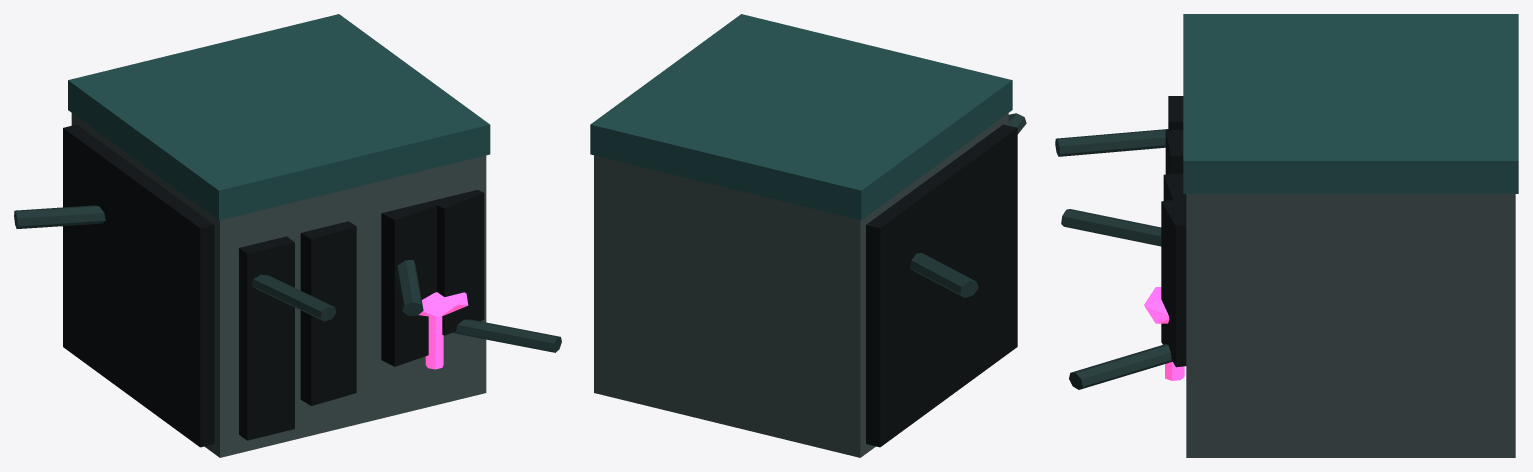
Rendered from df_v2_cliff_corner_a.glb.
The picture shows the model from 3 angles, left to right: view 1: azimuth 30°, elevation 25°; view 2: azimuth 150°, elevation 25°; view 3: azimuth 270°, elevation 25°; orthographic projection. The views are drawn at different scales.
Parts seen in each view (by area): view 1: mossy_plateau_cap, side_cliff_face, black_cliff_mass, broken_dark_face_0, broken_dark_face_1, broken_dark_face_2, broken_dark_face_3, cliff_root_2, corner_hanging_root, cliff_root_0, cliff_root_1, cliff_mushroom_glow_cap (+1 smaller); view 2: black_cliff_mass, mossy_plateau_cap, side_cliff_face, corner_hanging_root; view 3: black_cliff_mass, mossy_plateau_cap, broken_dark_face_3, cliff_root_0, cliff_root_2, cliff_root_1, broken_dark_face_1, cliff_mushroom_glow_cap, broken_dark_face_2, broken_dark_face_0.
Boxes of the visible parts, x1,y1,x2,y2 form: mossy_plateau_cap: (68,14,490,220); side_cliff_face: (63,124,214,447); black_cliff_mass: (71,113,486,457); broken_dark_face_0: (239,236,294,440); broken_dark_face_1: (300,221,356,405); broken_dark_face_2: (381,201,436,366); broken_dark_face_3: (429,190,484,335); cliff_root_2: (452,319,561,352); corner_hanging_root: (14,205,105,228); cliff_root_0: (251,274,336,321); cliff_root_1: (395,260,423,315); cliff_mushroom_glow_cap: (419,292,468,317); black_cliff_mass: (594,113,1008,457); mossy_plateau_cap: (590,14,1012,220); side_cliff_face: (866,124,1017,447); corner_hanging_root: (910,253,978,297); black_cliff_mass: (1186,194,1515,457); mossy_plateau_cap: (1183,14,1518,193); broken_dark_face_3: (1161,199,1186,367); cliff_root_0: (1055,129,1168,156); cliff_root_2: (1069,344,1172,389); cliff_root_1: (1061,209,1161,246); broken_dark_face_1: (1165,129,1183,174); cliff_mushroom_glow_cap: (1144,287,1169,323); broken_dark_face_2: (1163,173,1186,200); broken_dark_face_0: (1168,96,1183,129).
Size of the model in its own units: 1.6 by 1.08 by 1.52.
